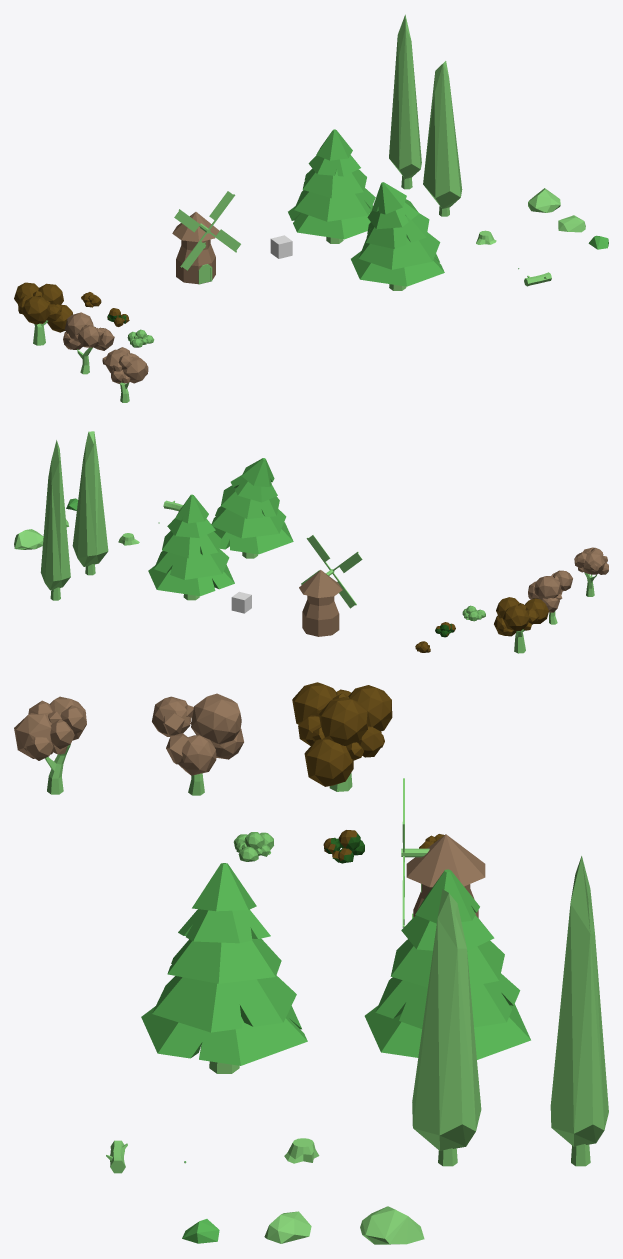
The model's file is mill.fbx.
The picture shows the model from 3 angles, top to bottom: view 1: azimuth 30°, elevation 25°; view 2: azimuth 150°, elevation 25°; view 3: azimuth 270°, elevation 25°; orthographic projection. The views are drawn at different scales.
Parts seen in each view (by area): view 1: pine 2, pine 1, Roman Cypress, Roman Cypress.001, mill, bubble 1, bubble 2, bubble 3, rock 1; view 2: pine 1, pine 2, Roman Cypress, Roman Cypress.001, mill, bubble 1, bubble 2, bubble 3, rock 1, Cube; view 3: pine 2, pine 1, Roman Cypress, Roman Cypress.001, bubble 1, bubble 2, bubble 3, mill, rock 1, rock 2, bush 2, bush 3.
Part boxes in pixels (x1,y1,x2,y2): pine 2: [351, 182, 444, 290]; pine 1: [288, 129, 375, 243]; Roman Cypress: [423, 61, 462, 216]; Roman Cypress.001: [389, 14, 421, 189]; mill: [172, 191, 240, 284]; bubble 1: [14, 282, 72, 345]; bubble 2: [63, 312, 114, 374]; bubble 3: [102, 347, 148, 402]; rock 1: [528, 188, 560, 212]; pine 1: [148, 494, 234, 600]; pine 2: [211, 458, 293, 558]; Roman Cypress: [72, 431, 108, 575]; Roman Cypress.001: [40, 440, 70, 600]; mill: [299, 535, 362, 636]; bubble 1: [494, 597, 548, 653]; bubble 2: [528, 570, 572, 624]; bubble 3: [574, 547, 608, 596]; rock 1: [14, 529, 43, 549]; Cube: [231, 591, 251, 613]; pine 2: [141, 863, 307, 1073]; pine 1: [364, 869, 530, 1059]; Roman Cypress: [412, 889, 481, 1166]; Roman Cypress.001: [550, 856, 608, 1166]; bubble 1: [292, 682, 392, 791]; bubble 2: [152, 693, 243, 795]; bubble 3: [14, 696, 86, 794]; mill: [401, 778, 485, 927]; rock 1: [360, 1206, 424, 1244]; rock 2: [264, 1211, 311, 1243]; bush 2: [323, 830, 364, 863]; bush 3: [233, 832, 273, 861].
Size of the model in its own units: 7993 by 2391 by 4192.
